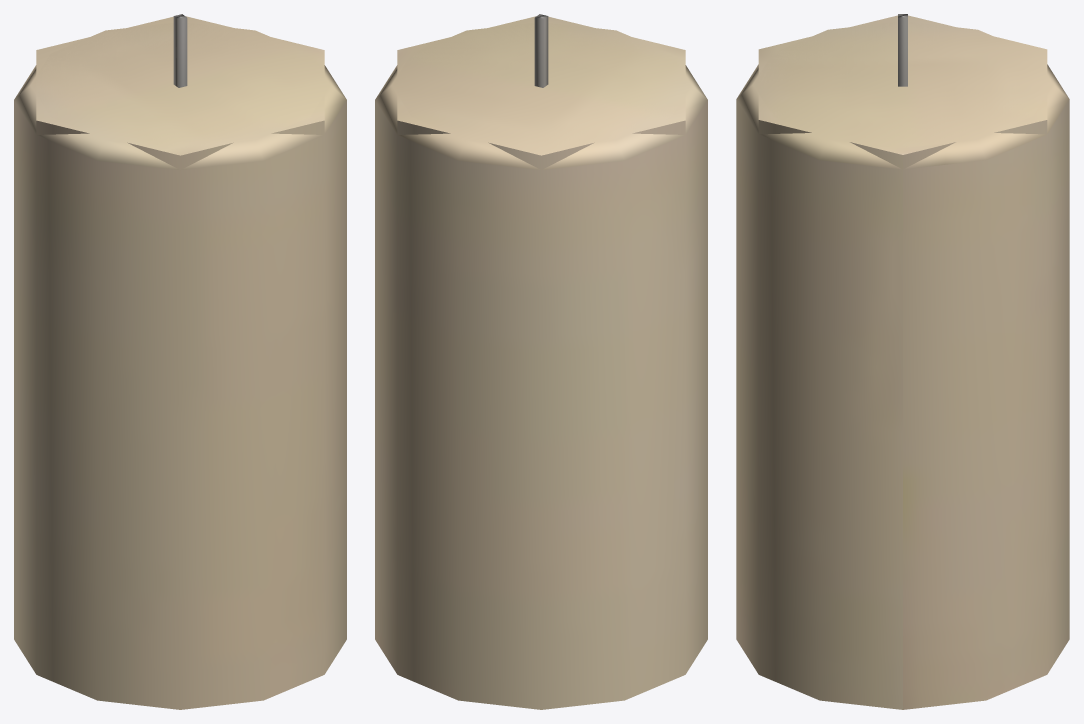
File: CandleLarge_Flame.glb
3 renders of one model, left to right at view 1: azimuth 30°, elevation 25°; view 2: azimuth 150°, elevation 25°; view 3: azimuth 270°, elevation 25°, orthographic.
Visible parts, largest first — view 1: CandleLarge; view 2: CandleLarge; view 3: CandleLarge.
Boxes of the visible parts, left/top/right/bottom form: CandleLarge: left=14, top=14, right=346, bottom=709; CandleLarge: left=375, top=14, right=707, bottom=709; CandleLarge: left=736, top=14, right=1069, bottom=709.
Size of the model in its own units: 0.0922 by 0.1903 by 0.0922.
Materials: 1 (1 with a texture image).
